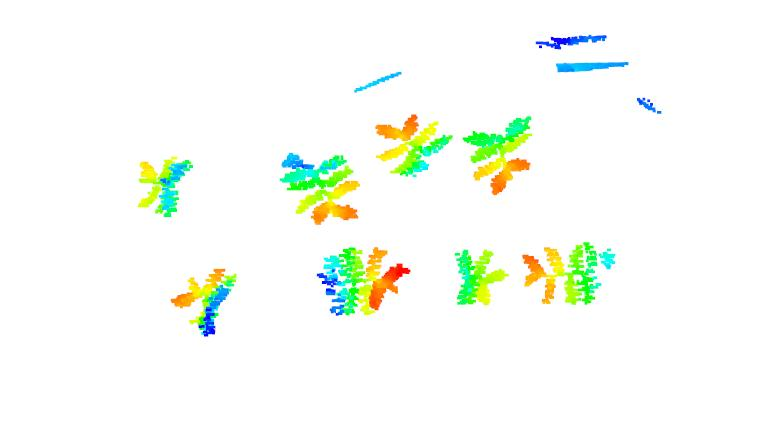chickpea: (277, 147, 367, 227), (315, 245, 411, 317), (519, 240, 622, 307), (463, 112, 540, 197), (373, 114, 455, 179), (170, 264, 241, 339), (131, 153, 197, 219), (453, 248, 509, 307)
